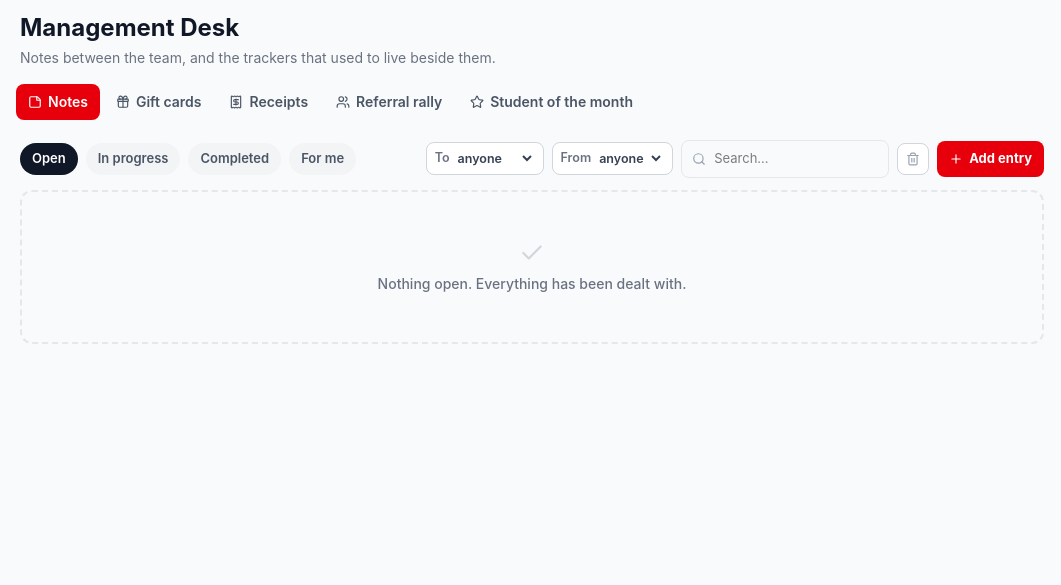
writing one › reads initials, the student and the topic before you send
The width and height of the screenshot is (1061, 585).
Click the button "Add entry": (991, 159) [937,141,1044,176]
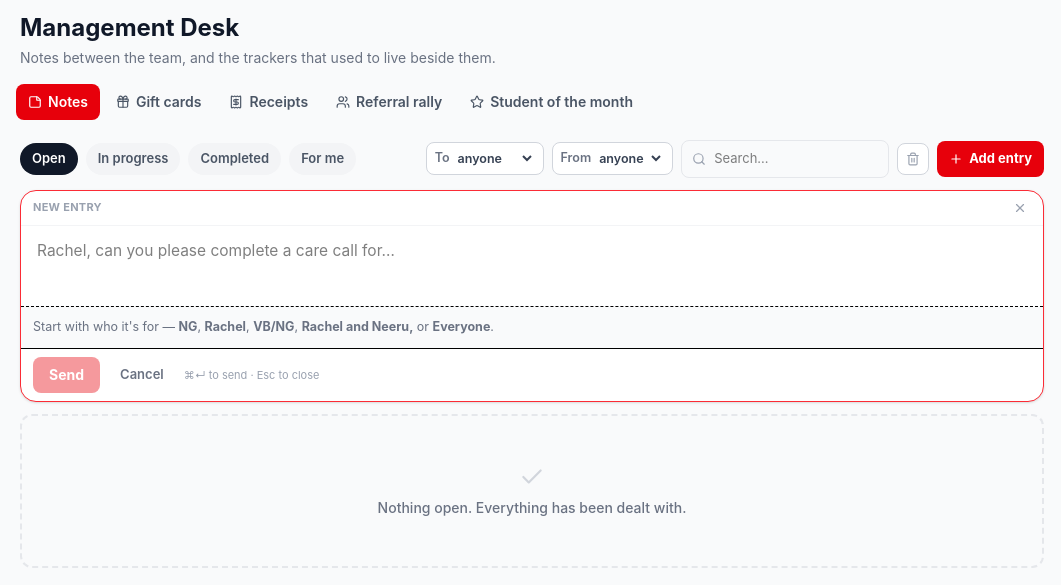
In the text box with placeholder "Rachel, can you please complete a care call for…": (532, 263) [21,226,1043,300], type "NG, can you please complete a care call for Lexie Liu"
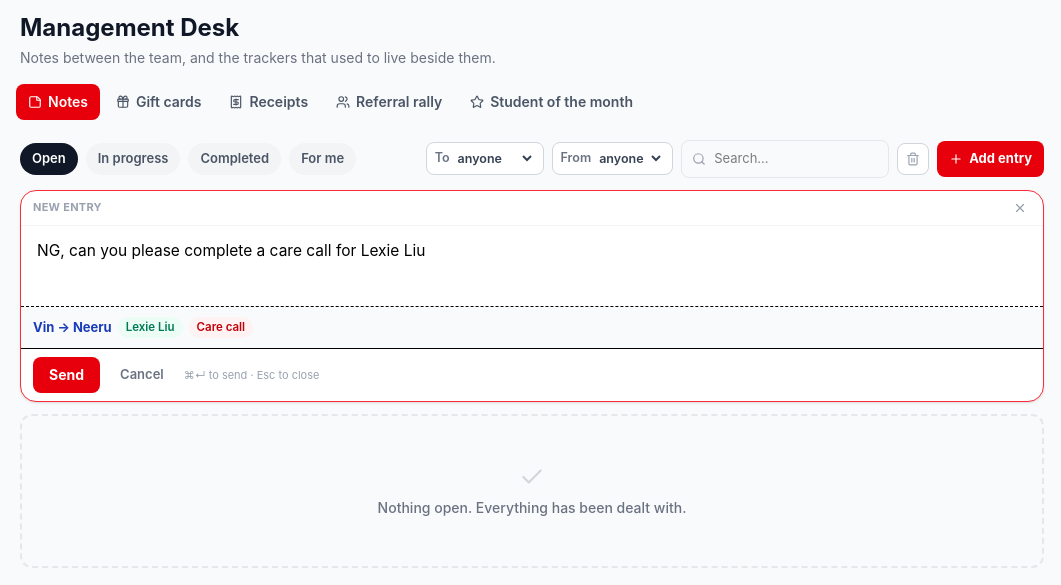
Now the text "Vin → Neeru" is shown, box [33,318,112,337]
Now the text "Care call" is shown, box [189,317,253,338]
